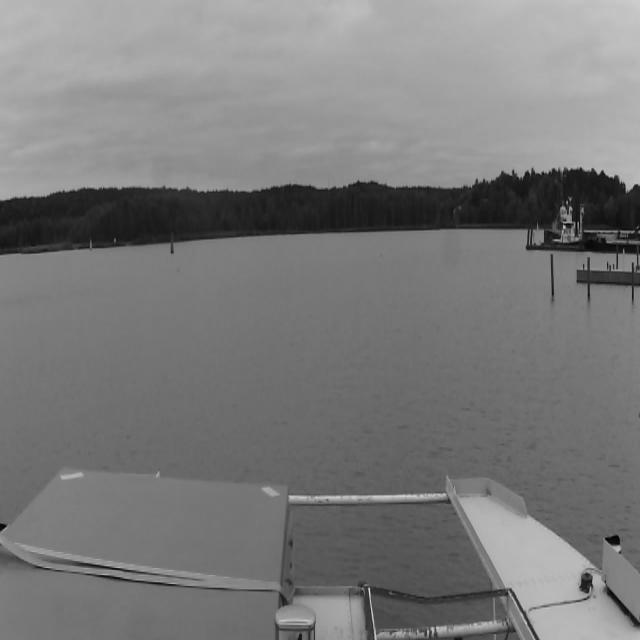buoy: (170, 235, 173, 254)
ship: (526, 202, 606, 252)
